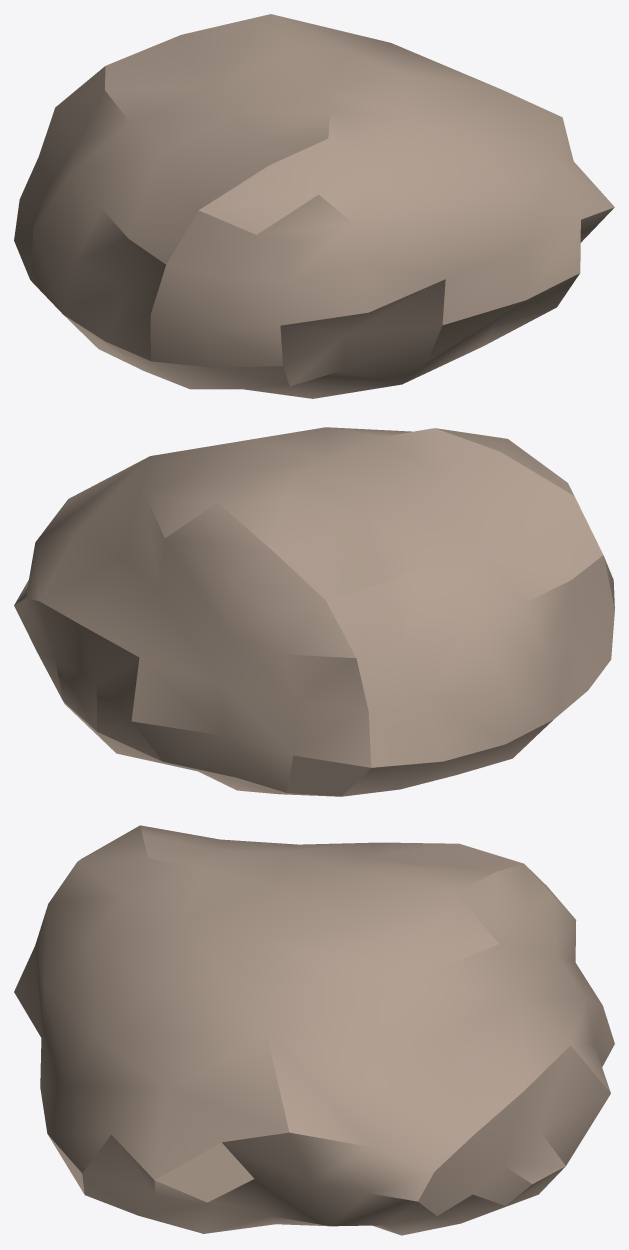
Rendered from C_Rock_5.fbx.
3 views of the same model, one above another, from view 1: azimuth 30°, elevation 25°; view 2: azimuth 150°, elevation 25°; view 3: azimuth 270°, elevation 25° (orthographic). The views are drawn at different scales.
Parts seen in each view (by area): view 1: rock; view 2: rock; view 3: rock.
Boxes of the visible parts, x1=… form: rock: x1=14, y1=14, x2=614, y2=398; rock: x1=14, y1=427, x2=614, y2=796; rock: x1=14, y1=825, x2=614, y2=1235.
Size of the model in its own units: 314 by 164 by 292.
